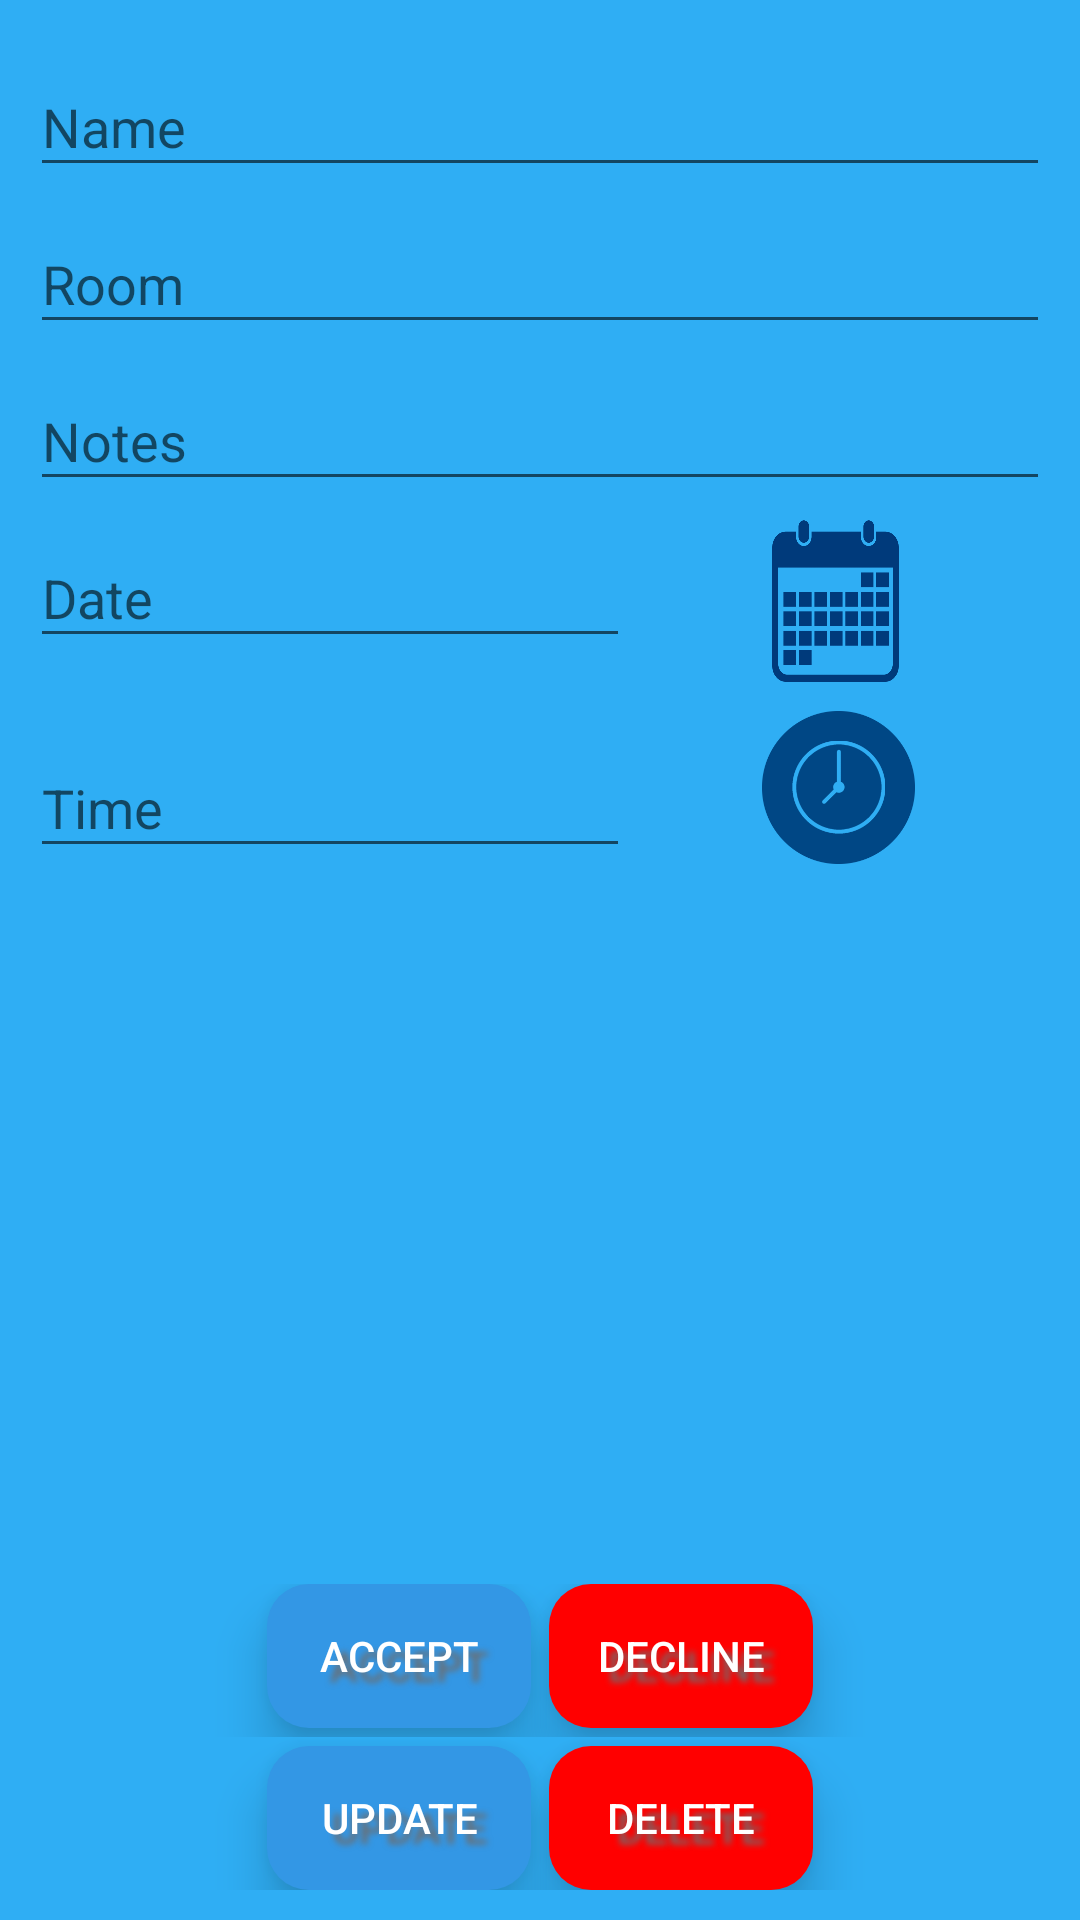

Named icons in this screenshot (1080 x 1920) and their centers, (x,y):
calendarblue: (835,601)
